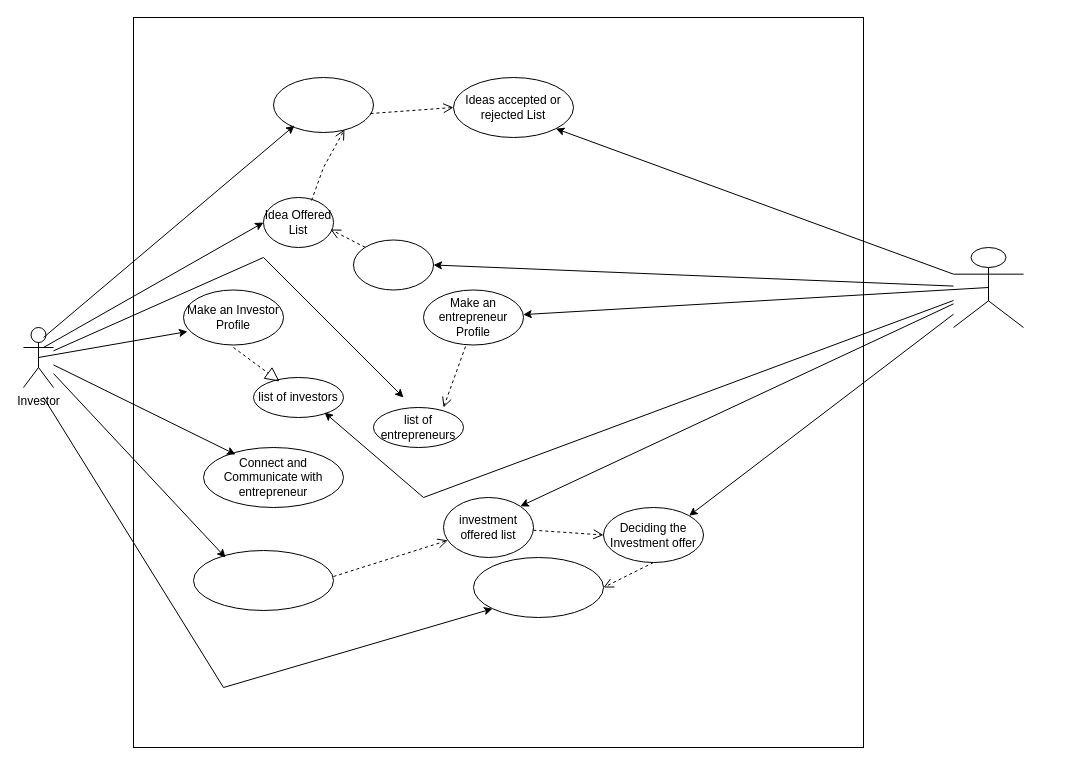
Some shapes in this 1070 by 765 pixel diagram are drawn without their labels. Here are the shapes that lost their labels. From the top down, the centre of each, then its label:
the point at 323,104: Deciding the Idea
the point at 393,264: Offering the Idea
the point at 988,287: Entreprenuer or StartUp
the point at 263,580: Offering the investment
the point at 538,587: Investment Offers rejected or accepted list
